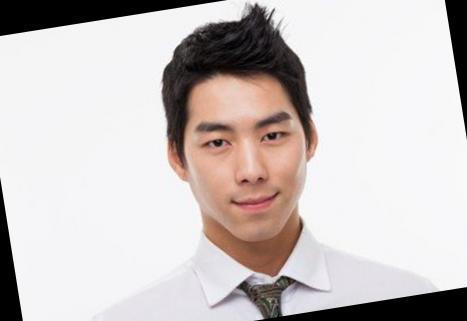Sober: (184, 90, 308, 224)
